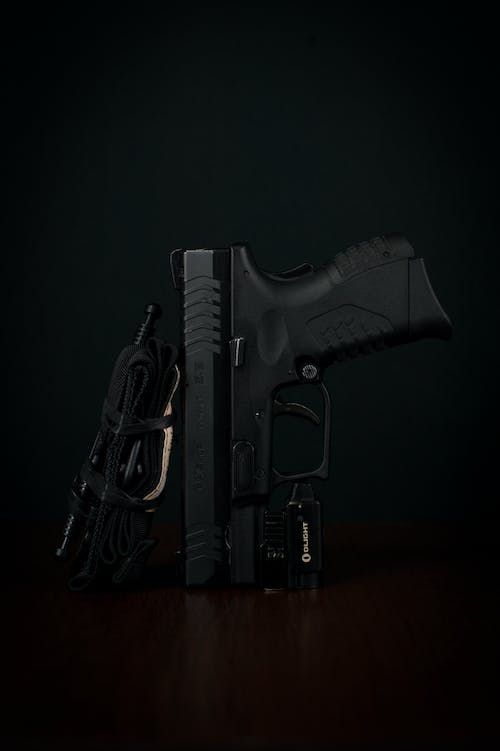gun: (167, 224, 460, 594)
